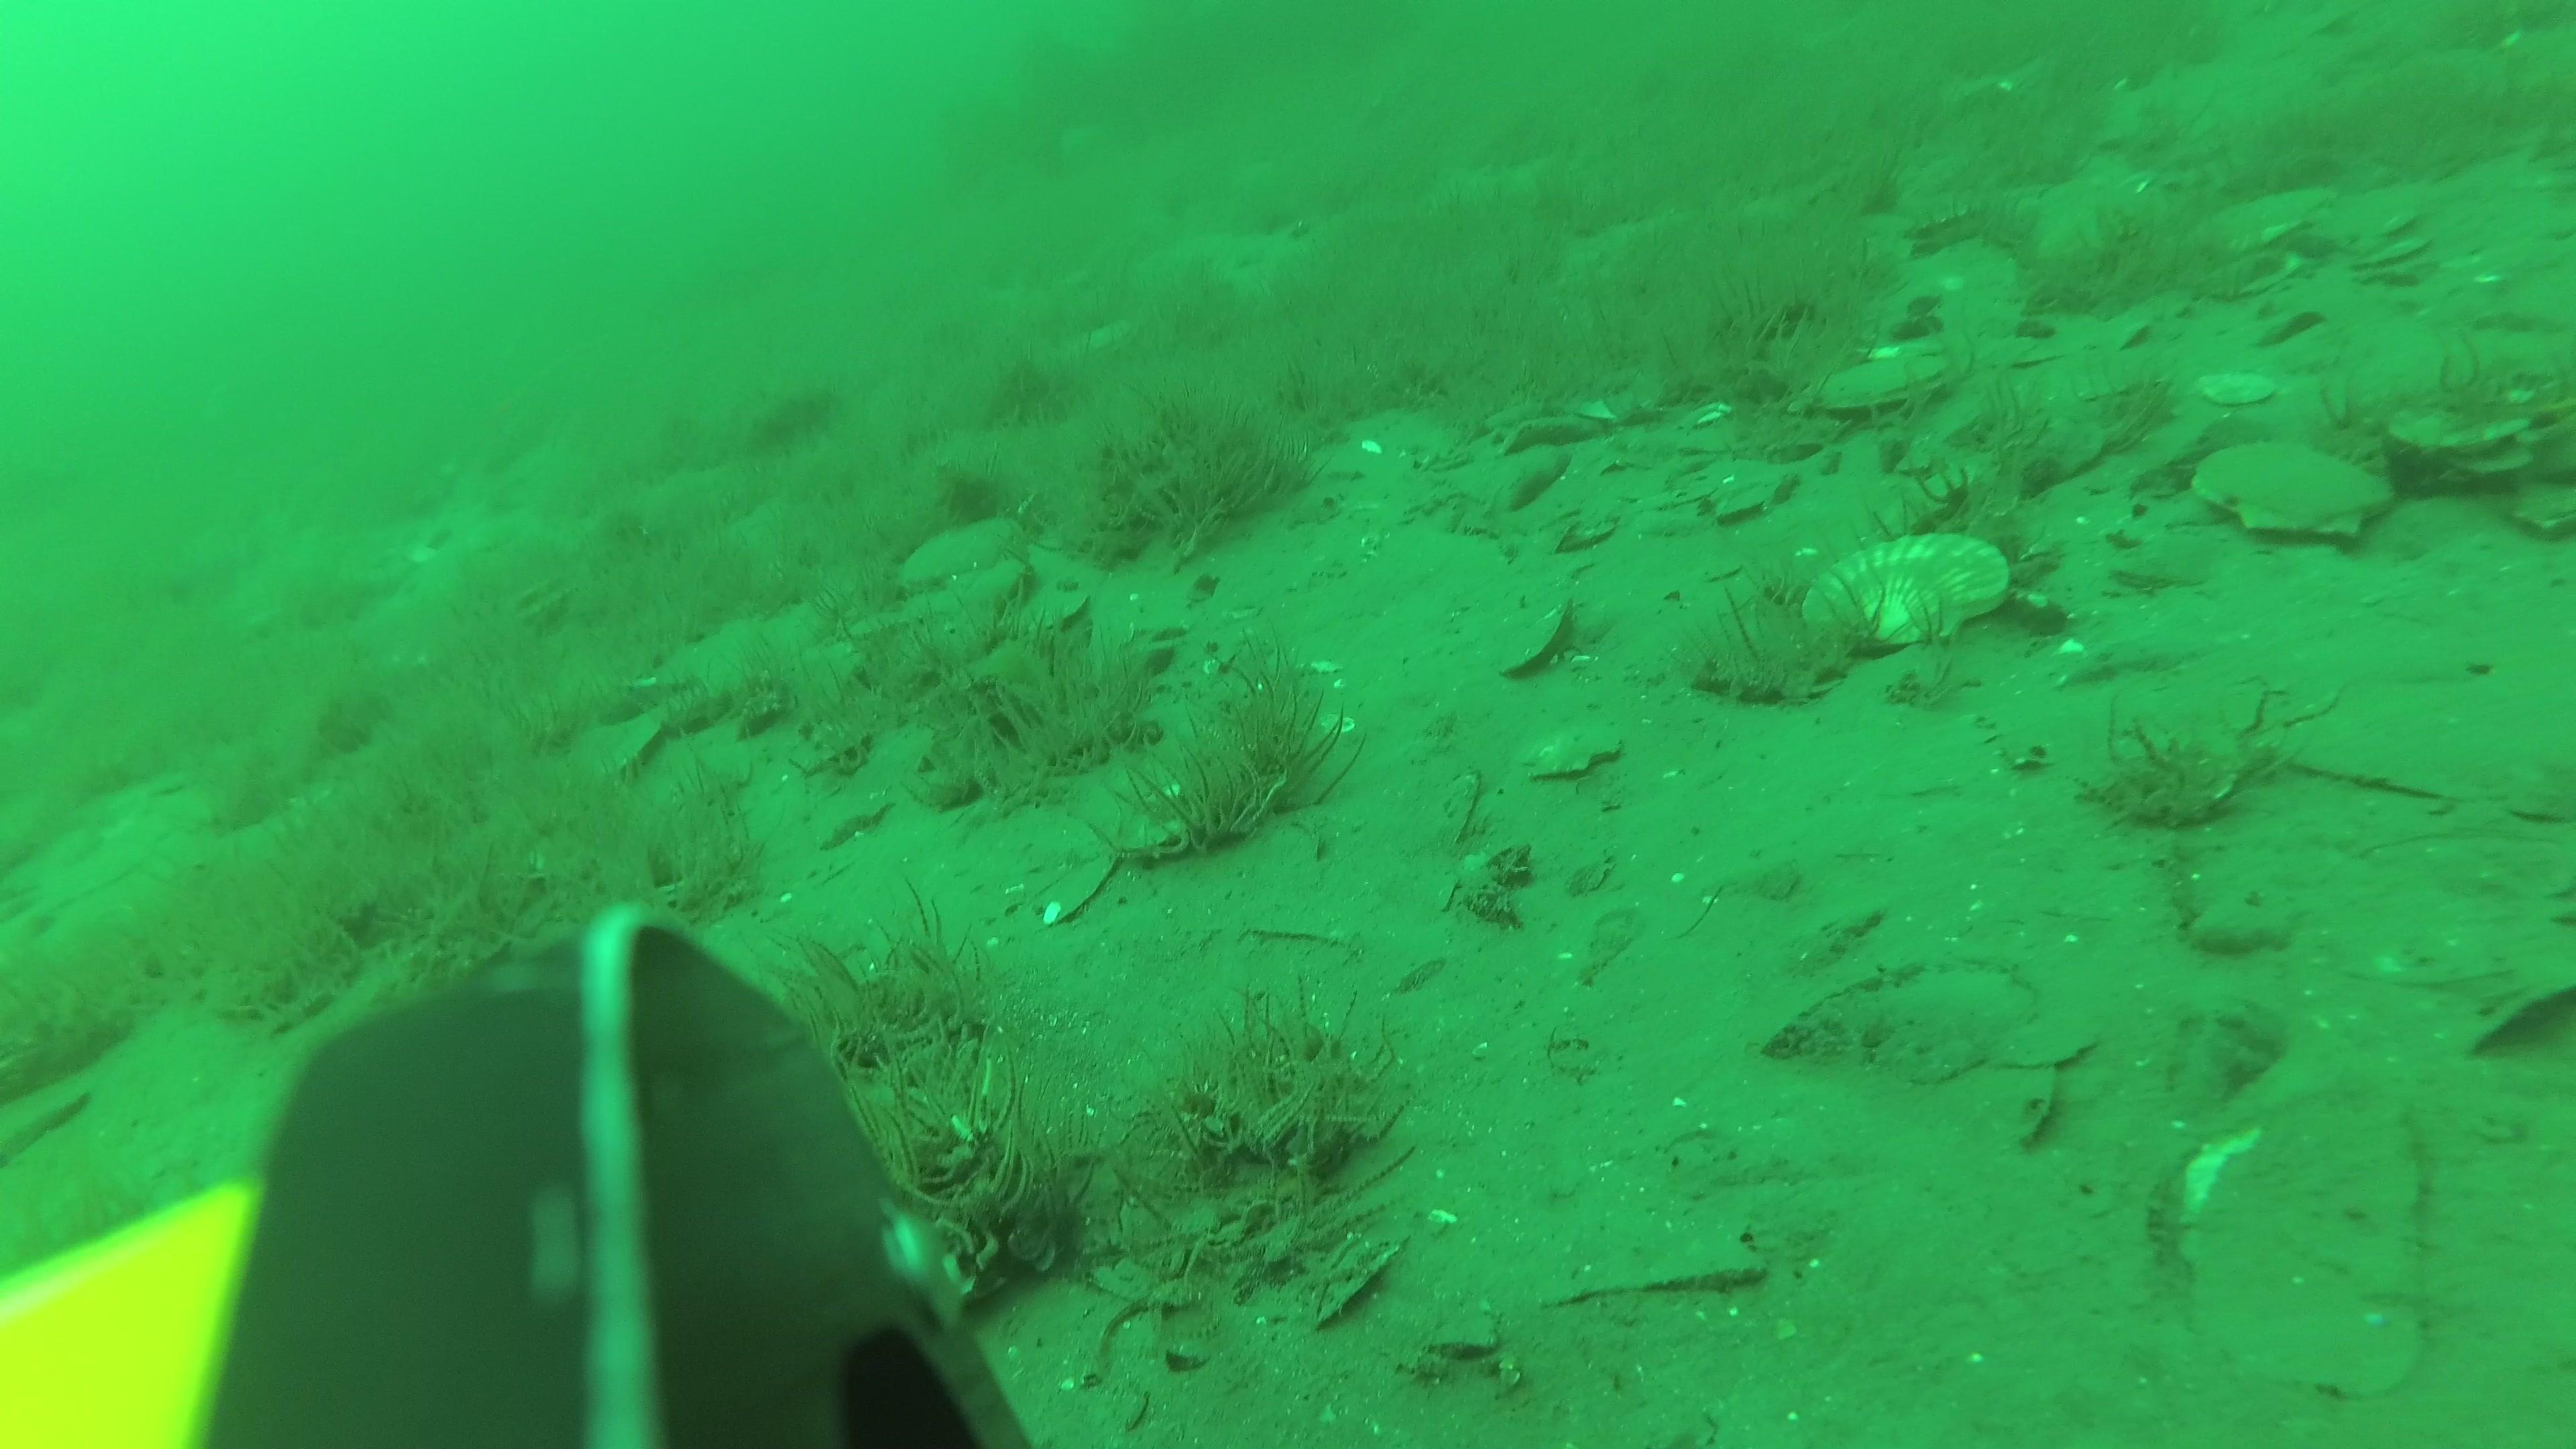scallop: (1792, 525, 2024, 667), (2187, 430, 2406, 545), (1790, 343, 1967, 425), (895, 511, 1037, 607), (2008, 349, 2164, 432), (2192, 182, 2341, 262), (1511, 709, 1637, 782), (1500, 587, 1582, 685), (2312, 205, 2438, 267), (1113, 809, 1194, 893), (1700, 469, 1806, 529), (2194, 361, 2284, 414), (1023, 594, 1092, 651), (950, 570, 1035, 616), (1550, 515, 1622, 563), (1990, 326, 2059, 373)
